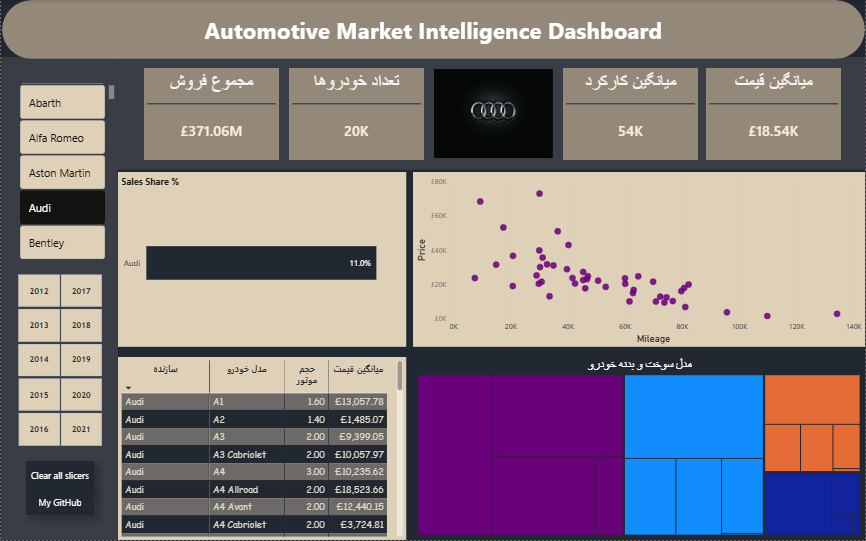

The page's visual inventory and layout, read from the dashboard file:
{"tool":"powerbi","page":{"name":"MainPage","canvas":[1280,800],"ordinal":0},"visuals":[{"type":"shape","box":[0,84,173,715.6],"z":0},{"type":"advancedSlicerVisual","fields":{"Values":["Dim_Maker.سازنده"]},"box":[23.7,118.5,149.6,271.1],"z":1000},{"type":"shape","box":[173.3,84.4,1106.7,167.4],"z":2000},{"type":"slicer","fields":{"Values":["Dim_Calender.سال تولید"]},"box":[0,400,173.3,266.7],"z":3000},{"type":"cardVisual","title":"مجموع فروش","fields":{"Data":["_All_Measures.Total Sales"]},"box":[211.9,100.7,200,136.3],"z":4000},{"type":"cardVisual","title":"میانگین قیمت","fields":{"Data":["_All_Measures.Avg Price"]},"box":[1044.4,100.7,200,136.3],"z":5000},{"type":"cardVisual","title":"تعداد خودروها","fields":{"Data":["_All_Measures.Total Cars"]},"box":[426.7,100.7,200,136.3],"z":6000},{"type":"cardVisual","title":"میانگین کارکرد ","fields":{"Data":["_All_Measures.Avg Mileage"]},"box":[832.6,100.7,200,136.3],"z":7000},{"type":"clusteredBarChart","fields":{"Y":["_All_Measures.Sales Share %"],"Category":["Dim_Maker.سازنده"]},"box":[173.3,254.8,426.7,259.3],"z":8000},{"type":"scatterChart","fields":{"Y":["_All_Measures.Avg Price"],"Category":["Dim_Car_Specs.مدل خودرو"],"Series":["Dim_Maker.سازنده"],"X":["_All_Measures.Avg Mileage"]},"box":[610.4,254.8,669.6,259.3],"z":9000},{"type":"tableEx","fields":{"Values":["Dim_Maker.سازنده","Dim_Car_Specs.مدل خودرو","Dim_Car_Specs.حجم موتور","_All_Measures.Avg Price"]},"box":[173.3,528.9,426.7,271.1],"z":10000},{"type":"image","box":[641.5,102.2,176.3,131.9],"z":11000},{"type":"shape","box":[1.5,0,1278.5,87.4],"z":12000},{"type":"treemap","title":"مدل سوخت و بدنه خودرو","fields":{"Group":["Dim_Car_Specs.مدل سوخت","Dim_Car_Specs.مدل جعبه دنده"],"Values":["_All_Measures.Total Cars"],"Details":["Dim_Car_Specs.نوع بدنه"]},"box":[610.4,528.9,669.6,271.1],"z":13000},{"type":"textbox","box":[173.3,254.8,99.3,31.1],"z":14000},{"type":"actionButton","box":[37,683,100.7,40],"z":15000},{"type":"actionButton","box":[37,723,100.7,40],"z":16000}]}

Visuals, with their boxes in screenshot pixels (x1, y1, x2, y2), scaled from the page's 1280x800 canvas onto the 866x541 screenshot:
shape: l=0, t=57, r=117, b=540
advancedSlicerVisual - Dim_Maker.سازنده: l=16, t=80, r=117, b=263
shape: l=117, t=57, r=865, b=170
slicer - Dim_Calender.سال تولید: l=0, t=270, r=117, b=451
"مجموع فروش" cardVisual: l=143, t=68, r=279, b=160
"میانگین قیمت" cardVisual: l=707, t=68, r=842, b=160
"تعداد خودروها" cardVisual: l=289, t=68, r=424, b=160
"میانگین کارکرد " cardVisual: l=563, t=68, r=699, b=160
clusteredBarChart - _All_Measures.Sales Share % x Dim_Maker.سازنده: l=117, t=172, r=406, b=348
scatterChart - _All_Measures.Avg Price x Dim_Car_Specs.مدل خودرو: l=413, t=172, r=865, b=348
tableEx - Dim_Maker.سازنده x Dim_Car_Specs.مدل خودرو: l=117, t=358, r=406, b=540
image: l=434, t=69, r=553, b=158
shape: l=1, t=0, r=865, b=59
"مدل سوخت و بدنه خودرو" treemap: l=413, t=358, r=865, b=540
textbox: l=117, t=172, r=184, b=193
actionButton: l=25, t=462, r=93, b=489
actionButton: l=25, t=489, r=93, b=516
